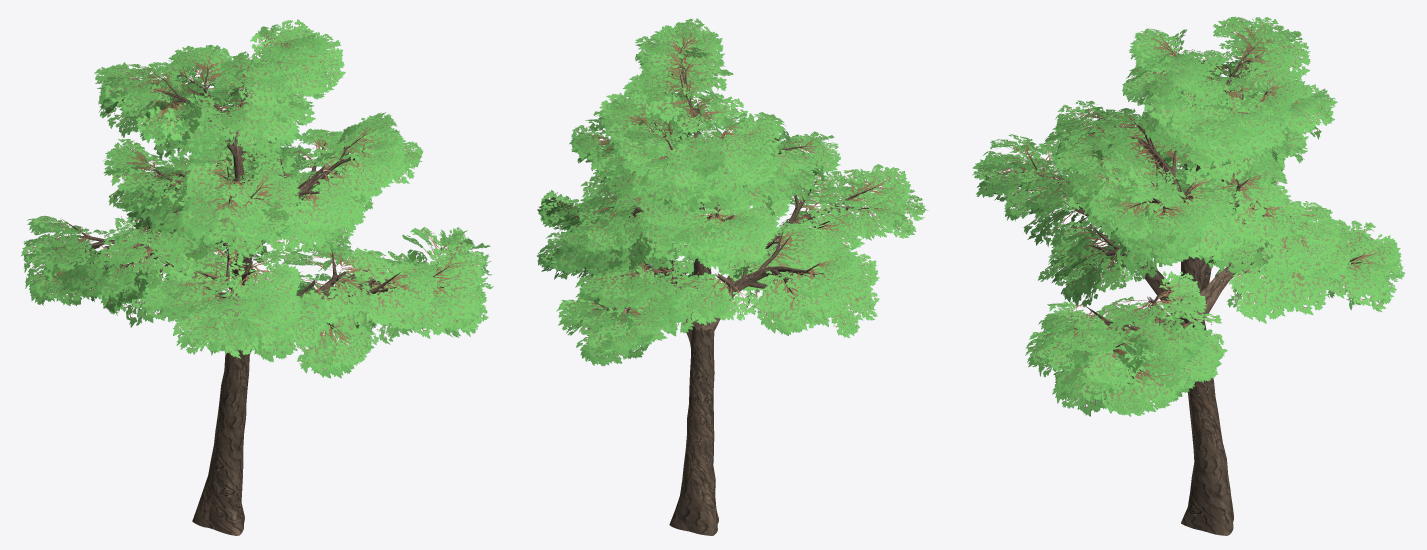
File: big-1.fbx
3 renders of one model, left to right at view 1: azimuth 30°, elevation 25°; view 2: azimuth 150°, elevation 25°; view 3: azimuth 270°, elevation 25°, orthographic. The views are drawn at different scales.
Parts seen in each view (by area): view 1: big_1; view 2: big_1; view 3: big_1.
Part boxes in pixels (x1,y1,x2,y2): big_1: (21,19,493,535); big_1: (537,18,928,535); big_1: (972,16,1405,535).
Bounding box in the file's own units: 25.57 × 29.1 × 23.08.
3 materials, 2 textured.
